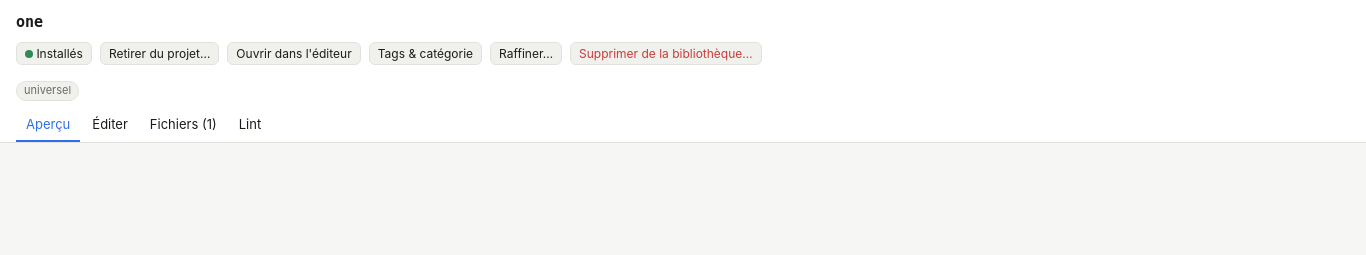
Test: lint tab › words findings in French and fixes a broken link in one click
The image size is (1366, 255).
Click the button "Lint" at (250, 126), box [229,109,271,142]
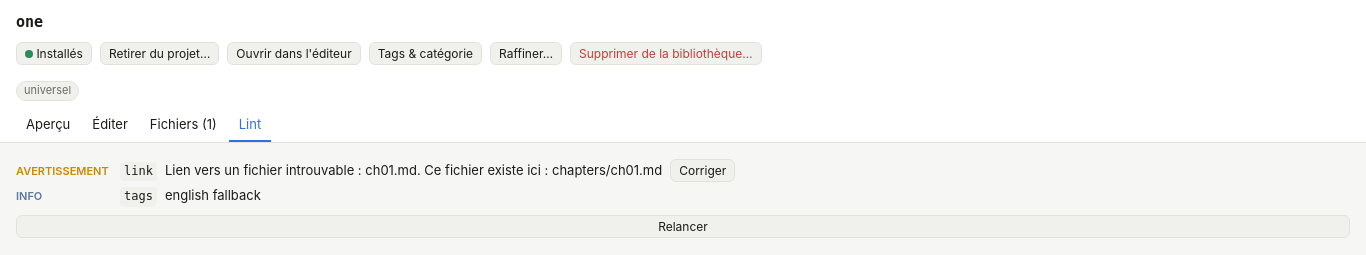
Check: the text "Lien vers un fichier introuvable : ch01.md. Ce fichier existe ici : chapters/ch01.md" is shown, box [165,162,662,178]
Check: the text "Avertissement" is shown, box [16,164,112,180]
Check: the text "english fallback" is shown, box [165,186,261,205]
Click the button "Corriger" at (703, 171), box [670,159,735,182]
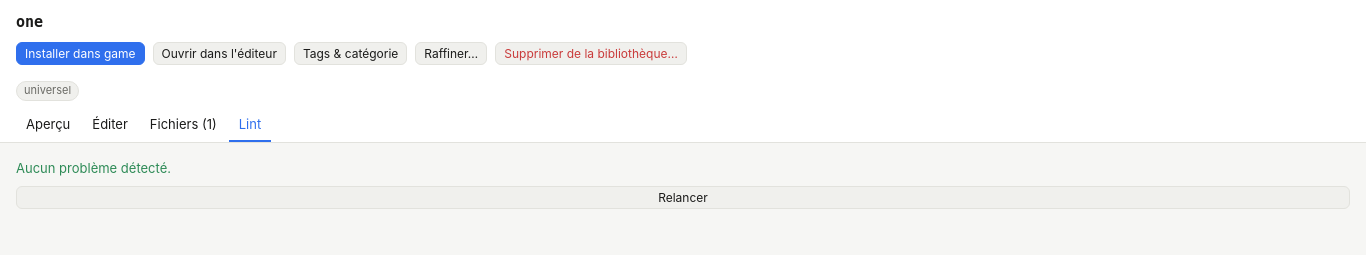
Check: the text "Aucun problème détecté." is shown, box [16,160,171,176]
